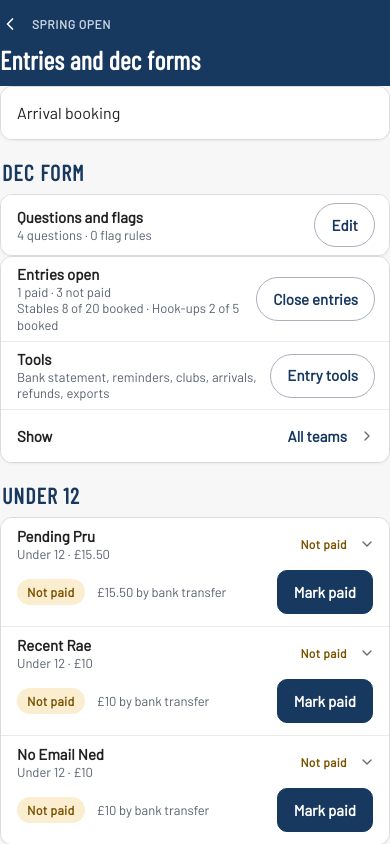
EntriesPage filters and capacity › shows the countdown on an open offer
Click the button with aria-label "Show:" at [35, 436], box [1,410,389,462]
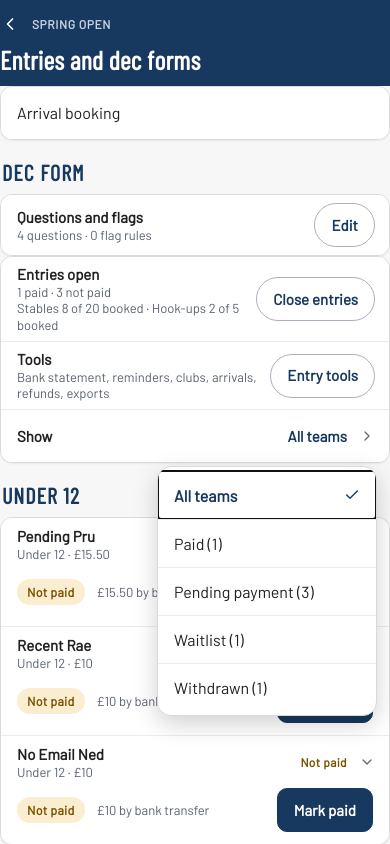
Click the option "Waitlist (1)" at [267, 639], box [158,615,376,663]
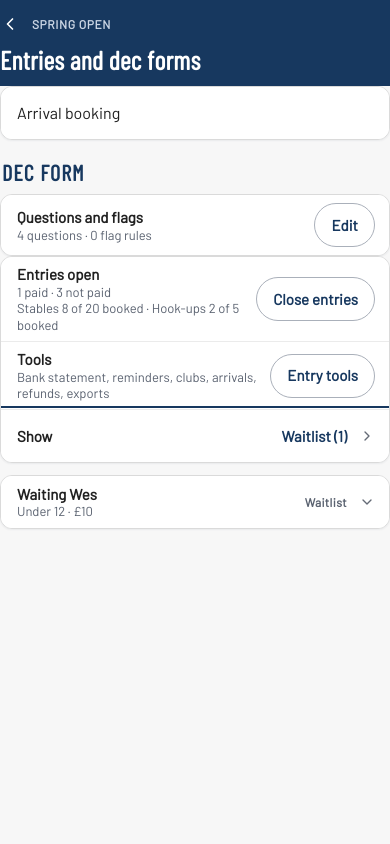
Click the button "Waiting Wes Under 12 · £10 Waitlist" at [57, 494], box [1,476,389,528]
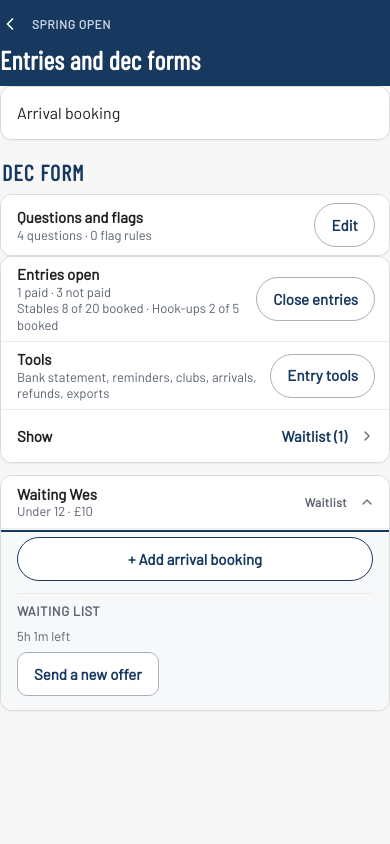
Expected: the text "5h 1m left" is shown, [17,628,70,644]
Expected: the button "Send a new offer" is shown, [17,652,159,696]
